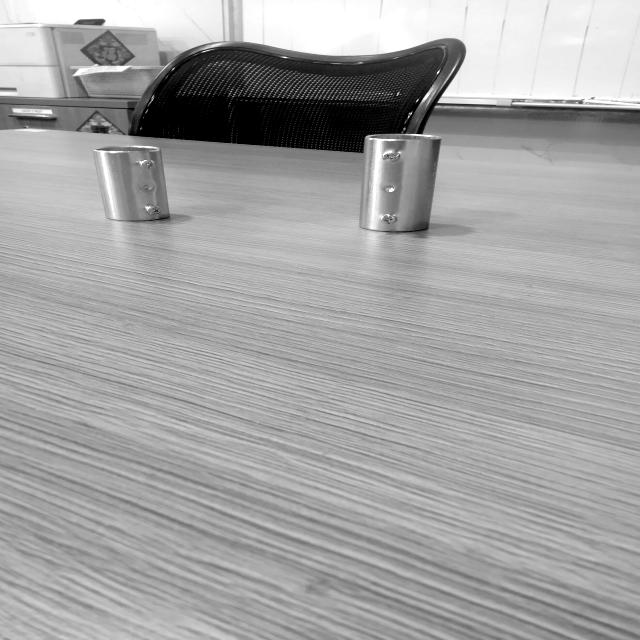Co_Lon: (358, 131, 441, 235)
Co_Nho: (93, 141, 170, 227)
